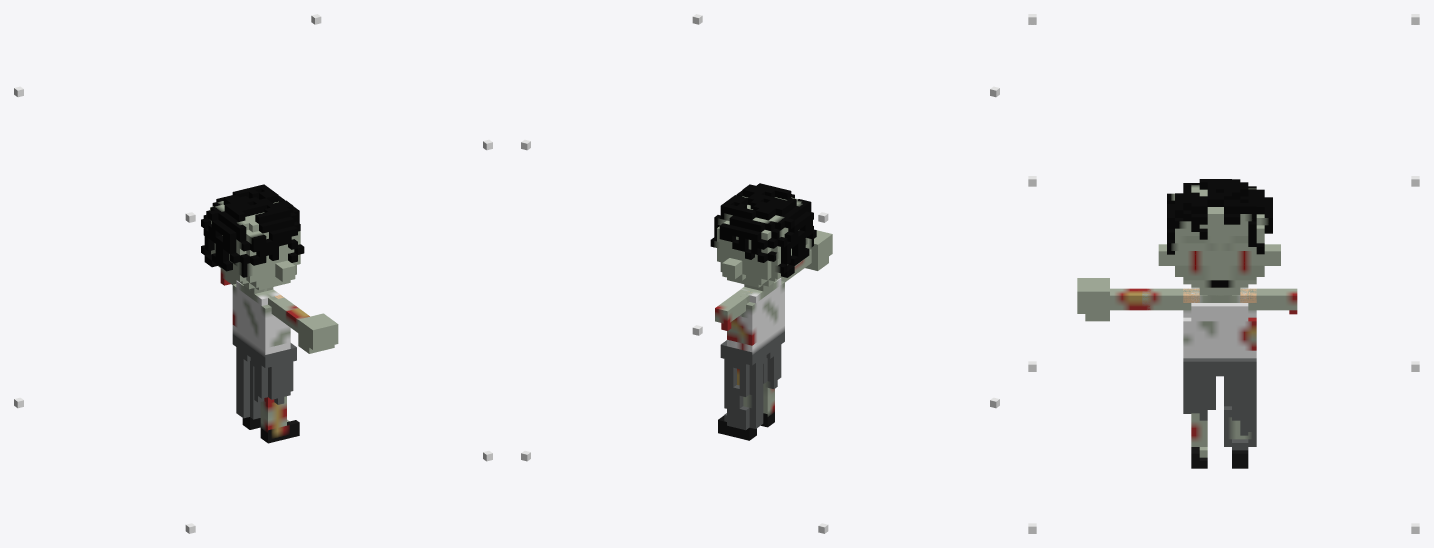
Rendered from Z00MBER.fbx.
The picture shows the model from 3 angles, left to right: view 1: azimuth 30°, elevation 25°; view 2: azimuth 150°, elevation 25°; view 3: azimuth 270°, elevation 25°; orthographic projection. The views are drawn at different scales.
Visible parts, largest first — view 1: Head, Torso, LowerLeg_Right, Hand_Right, UpperLeg_Right, Thigh_Right, LowerLeg_Left, ___DO_NOT_DELETE; view 2: Head, Torso, LowerLeg_Left, UpperLeg_Left, Thigh_Left, UpperArm_Left, ___DO_NOT_DELETE, Hand_Right, LowerLeg_Right; view 3: Head, Torso, LowerLeg_Left, Hand_Right, Thigh_Left, UpperLeg_Right, UpperArm_Left, UpperArm_Right, Thigh_Right, LowerLeg_Right, UpperLeg_Left, LowerArm_Right (+1 smaller).
Boxes of the visible parts, <box> form: Head: <box>201,184,304,291</box>; Torso: <box>232,280,290,348</box>; LowerLeg_Right: <box>254,387,299,443</box>; Hand_Right: <box>298,313,338,353</box>; UpperLeg_Right: <box>254,362,293,399</box>; Thigh_Right: <box>250,338,296,371</box>; LowerLeg_Left: <box>236,380,260,429</box>; ___DO_NOT_DELETE: <box>14,14,492,533</box>; Head: <box>710,183,816,287</box>; Torso: <box>727,278,784,345</box>; LowerLeg_Left: <box>718,388,763,440</box>; UpperLeg_Left: <box>724,353,763,396</box>; Thigh_Left: <box>720,333,770,370</box>; UpperArm_Left: <box>715,289,752,330</box>; ___DO_NOT_DELETE: <box>521,14,999,533</box>; Hand_Right: <box>805,230,832,270</box>; LowerLeg_Right: <box>761,373,781,427</box>; Head: <box>1158,179,1280,295</box>; Torso: <box>1183,287,1256,350</box>; LowerLeg_Left: <box>1224,406,1256,468</box>; Hand_Right: <box>1077,278,1109,321</box>; Thigh_Left: <box>1216,350,1256,383</box>; UpperLeg_Right: <box>1183,369,1215,413</box>; UpperArm_Left: <box>1240,288,1297,314</box>; UpperArm_Right: <box>1142,288,1199,310</box>; Thigh_Right: <box>1183,350,1223,380</box>; LowerLeg_Right: <box>1183,404,1215,468</box>; UpperLeg_Left: <box>1224,376,1256,413</box>; LowerArm_Right: <box>1110,288,1150,310</box>.
Bounding box in the file's own units: 48 × 48 × 48.
Materials: 1 (1 with a texture image).
